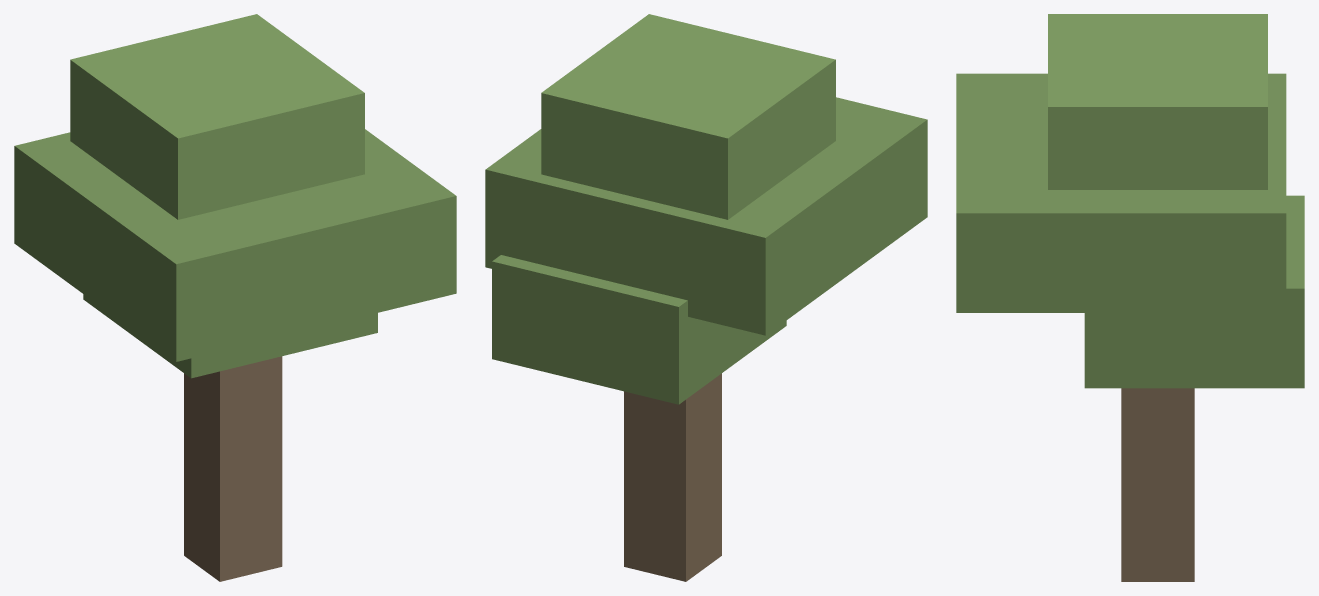
Rendered from olmo_02.glb.
3 renders of one model, left to right at view 1: azimuth 30°, elevation 25°; view 2: azimuth 150°, elevation 25°; view 3: azimuth 270°, elevation 25°, orthographic.
Parts seen in each view (by area): view 1: olmo_02; view 2: olmo_02; view 3: olmo_02.
Part boxes in pixels (x1,y1,x2,y2): olmo_02: (14, 14, 456, 581); olmo_02: (485, 14, 927, 581); olmo_02: (956, 14, 1304, 581).
Bounding box in the file's own units: 1.8 × 3 × 1.9.
